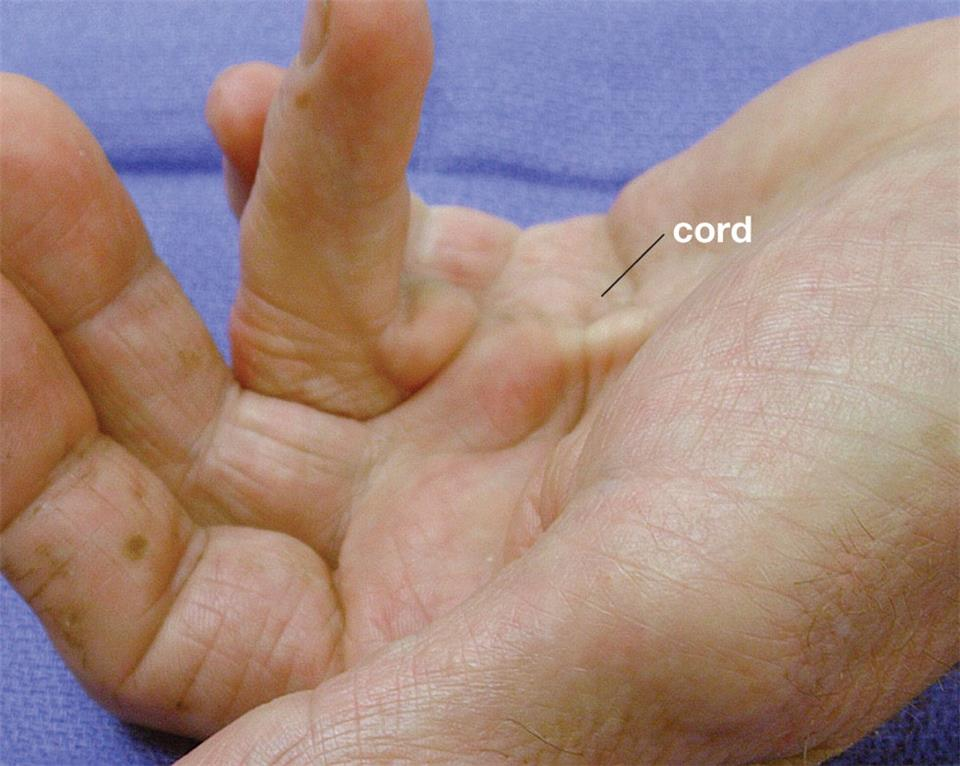finger: (15, 69, 356, 551), (1, 320, 343, 686), (256, 1, 427, 389)
